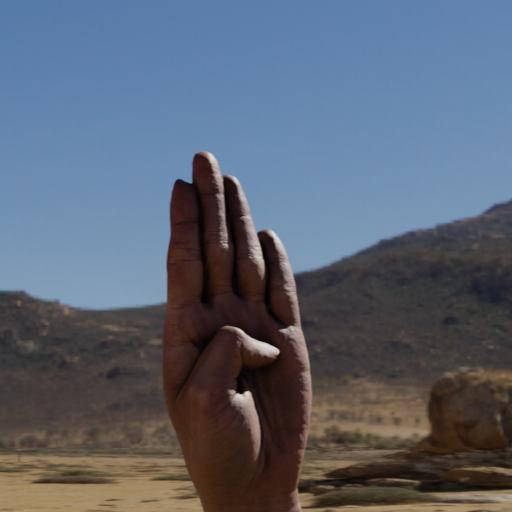B: (139, 115, 359, 499)
